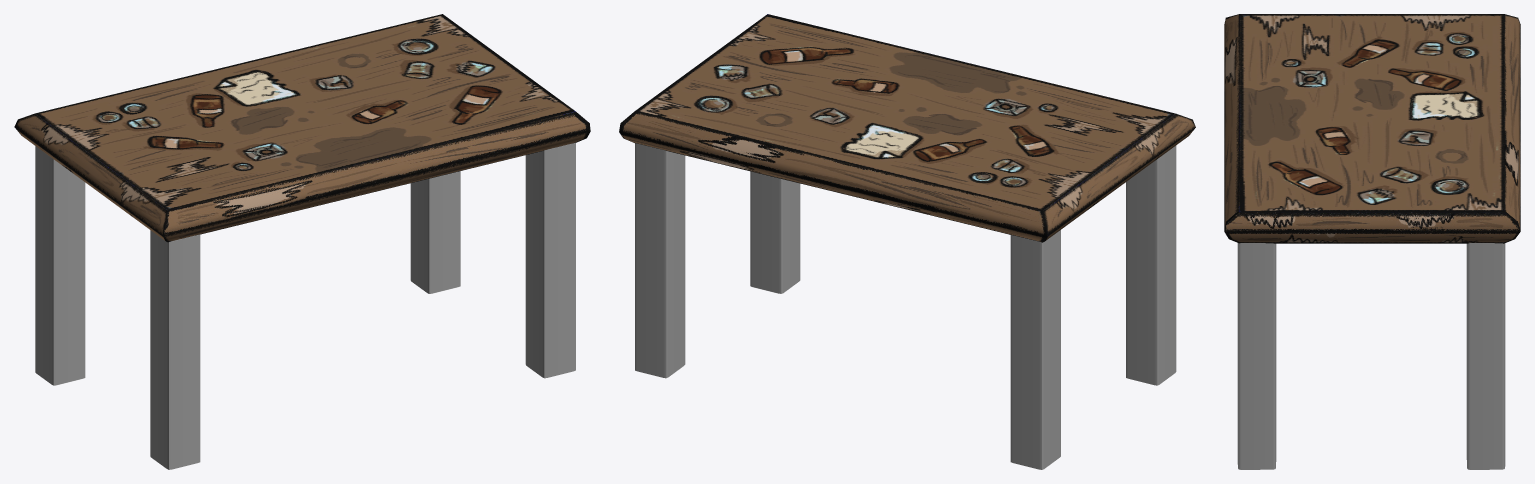
Rendered from Table_With_Tabletop_Future.fbx.
The picture shows the model from 3 angles, left to right: view 1: azimuth 30°, elevation 25°; view 2: azimuth 150°, elevation 25°; view 3: azimuth 270°, elevation 25°; orthographic projection.
Parts seen in each view (by area): view 1: pCube2, pasted__pasted__pCube1, pasted__pCube1, pasted__pCube2, pCube1; view 2: pCube2, pasted__pCube2, pCube1, pasted__pasted__pCube1, pasted__pCube1; view 3: pCube2, pasted__pCube1, pCube1.
Boxes of the visible parts, x1,y1,x2,y2 form: pCube2: (14, 14, 590, 242); pasted__pasted__pCube1: (150, 230, 200, 469); pasted__pCube1: (525, 142, 575, 378); pasted__pCube2: (35, 146, 85, 385); pCube1: (410, 171, 460, 293); pCube2: (619, 14, 1195, 242); pasted__pCube2: (1010, 230, 1060, 469); pCube1: (635, 143, 685, 378); pasted__pasted__pCube1: (1126, 145, 1176, 385); pasted__pCube1: (750, 171, 800, 293); pCube2: (1224, 14, 1520, 243); pasted__pCube1: (1237, 243, 1276, 469); pCube1: (1466, 243, 1505, 469).
Size of the model in its own units: 8.05 by 4.66 by 4.85.
